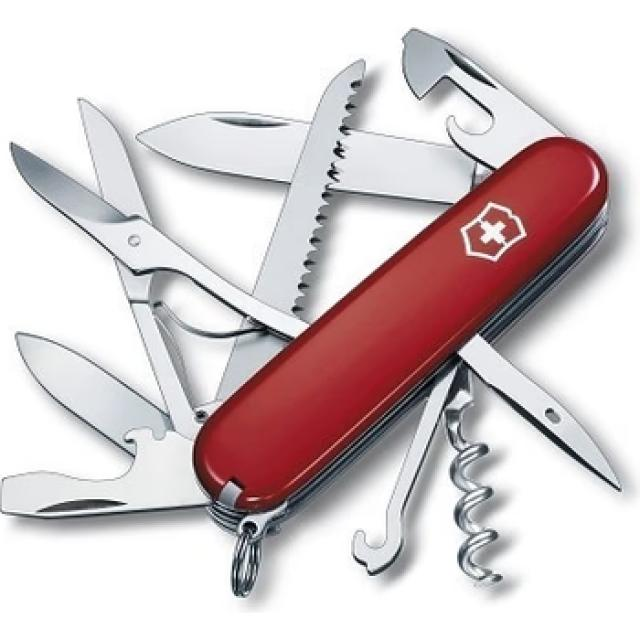knife victorinox: (178, 132, 626, 552)
